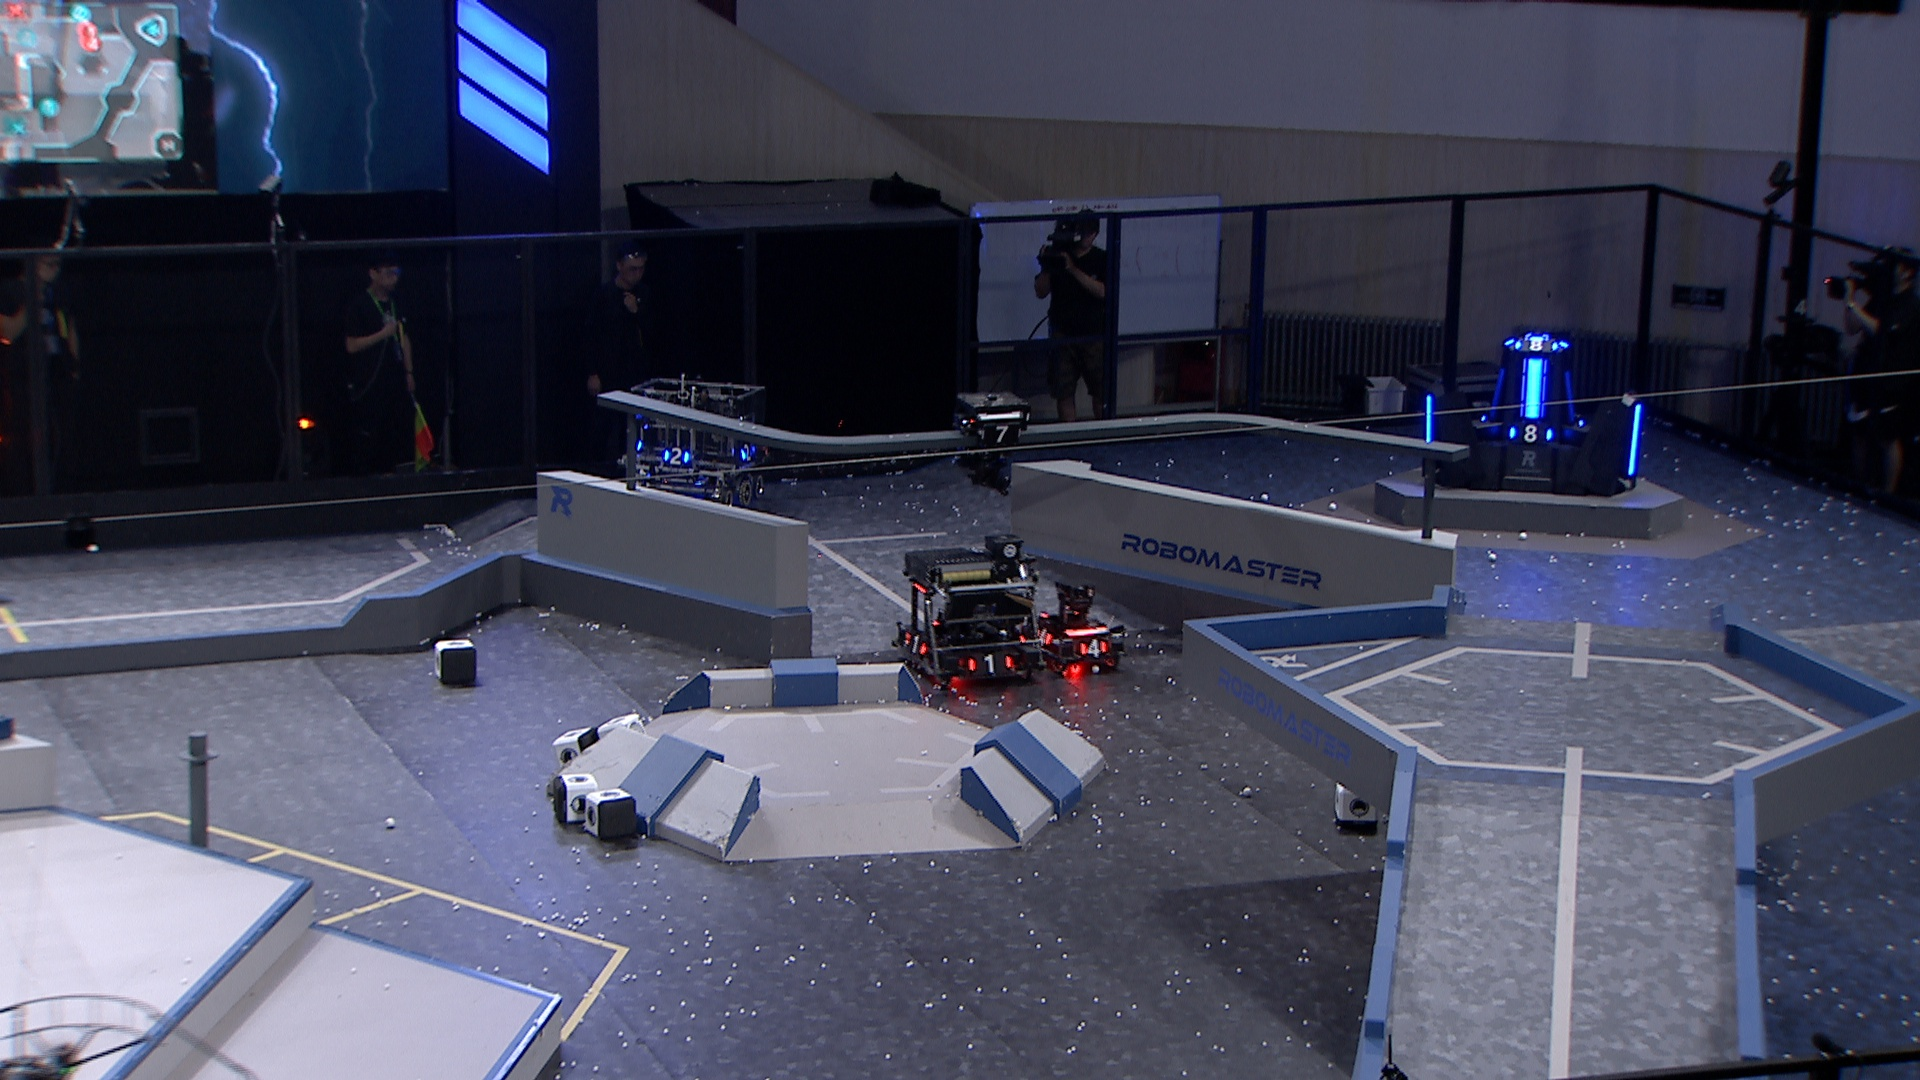armor: (1523, 356, 1544, 423), (1626, 404, 1643, 479), (1486, 368, 1509, 423), (1505, 425, 1557, 447), (961, 654, 1015, 674), (977, 425, 1021, 447), (1564, 367, 1580, 425), (1513, 338, 1557, 356), (1423, 392, 1437, 448), (901, 632, 927, 659), (1076, 638, 1109, 659), (661, 446, 690, 467), (1034, 626, 1054, 647), (737, 442, 756, 463)
base: (1419, 332, 1644, 501)
car: (891, 542, 1040, 695), (618, 372, 769, 517), (1029, 578, 1120, 676)
watcher: (949, 390, 1029, 495)
